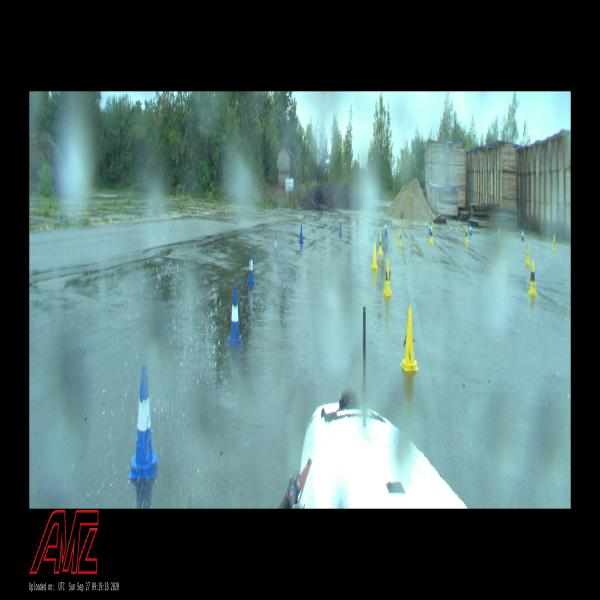blue_cone: (129, 366, 160, 478), (227, 286, 242, 345), (247, 249, 256, 286), (274, 234, 278, 255), (299, 224, 303, 244), (520, 228, 524, 241), (384, 220, 387, 235), (469, 221, 472, 236), (338, 221, 341, 235), (429, 222, 431, 234)
yellow_cone: (400, 306, 419, 371), (382, 260, 393, 296), (528, 262, 537, 296), (371, 243, 378, 270), (525, 243, 530, 266), (378, 235, 383, 254), (397, 228, 402, 246), (464, 226, 468, 242), (552, 236, 556, 251), (497, 227, 501, 242), (430, 227, 433, 244)
